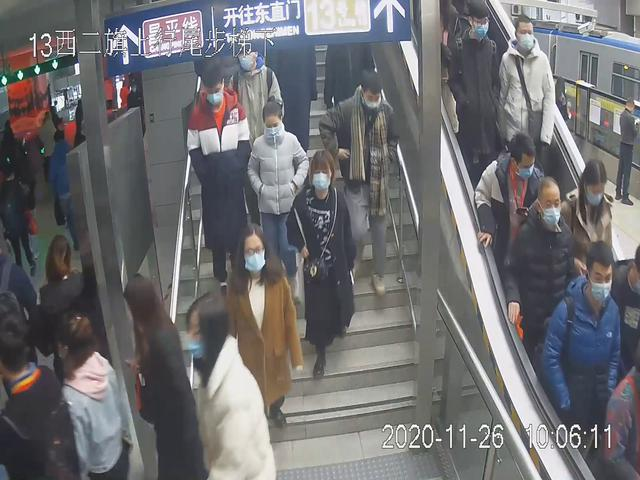person: (314, 66, 399, 294), (176, 288, 276, 480), (537, 237, 622, 459), (222, 221, 305, 434), (283, 150, 358, 383), (118, 268, 199, 480), (184, 65, 257, 296), (501, 176, 575, 380), (243, 97, 312, 289), (496, 13, 559, 213), (445, 1, 499, 199)
